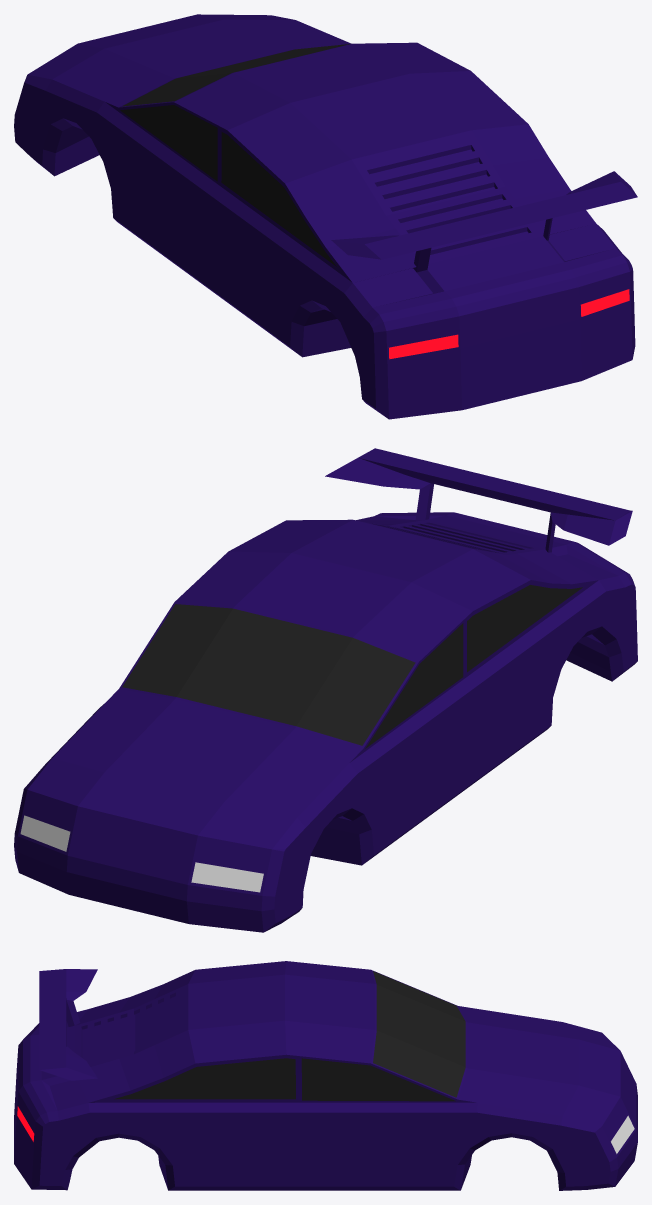
The picture shows the model from 3 angles, top to bottom: view 1: azimuth 30°, elevation 25°; view 2: azimuth 150°, elevation 25°; view 3: azimuth 270°, elevation 25°; orthographic projection. The views are drawn at different scales.
Parts seen in each view (by area): view 1: Plane.014; view 2: Plane.014; view 3: Plane.014.
Part boxes in pixels (box(x1,y1,x2,y2)): Plane.014: box(14, 14, 637, 419); Plane.014: box(14, 448, 637, 932); Plane.014: box(14, 961, 637, 1190).
Bounding box in the file's own units: 204 × 128 × 493.
